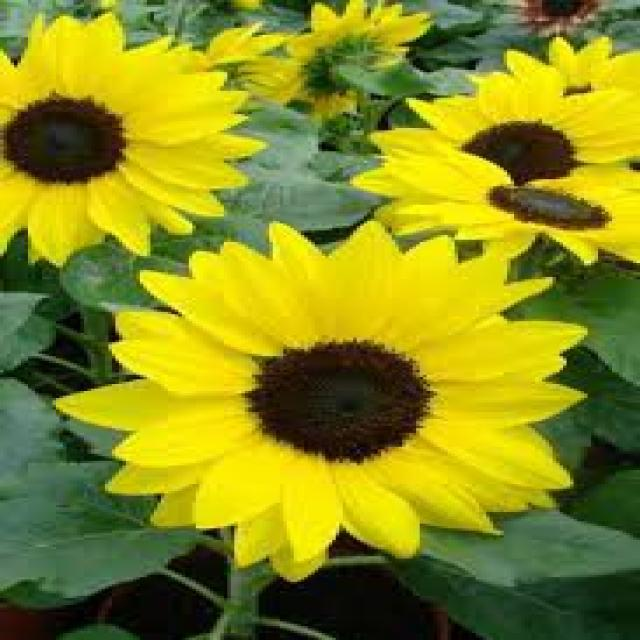sunflower: (63, 214, 591, 573), (0, 13, 259, 271), (355, 149, 638, 271)
